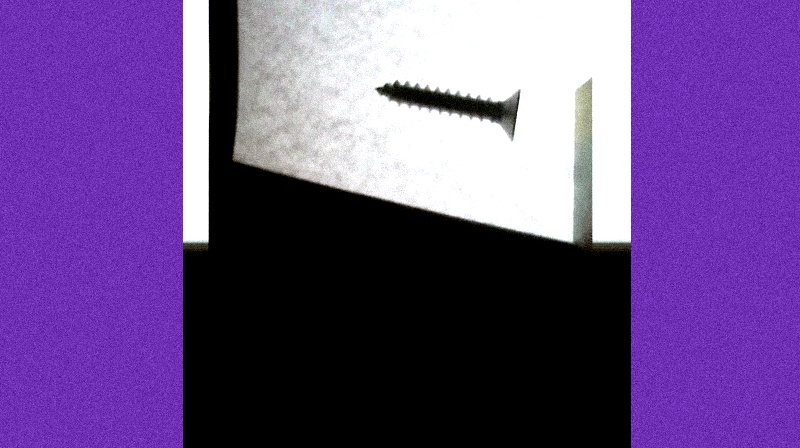S001: (374, 73, 523, 146)
